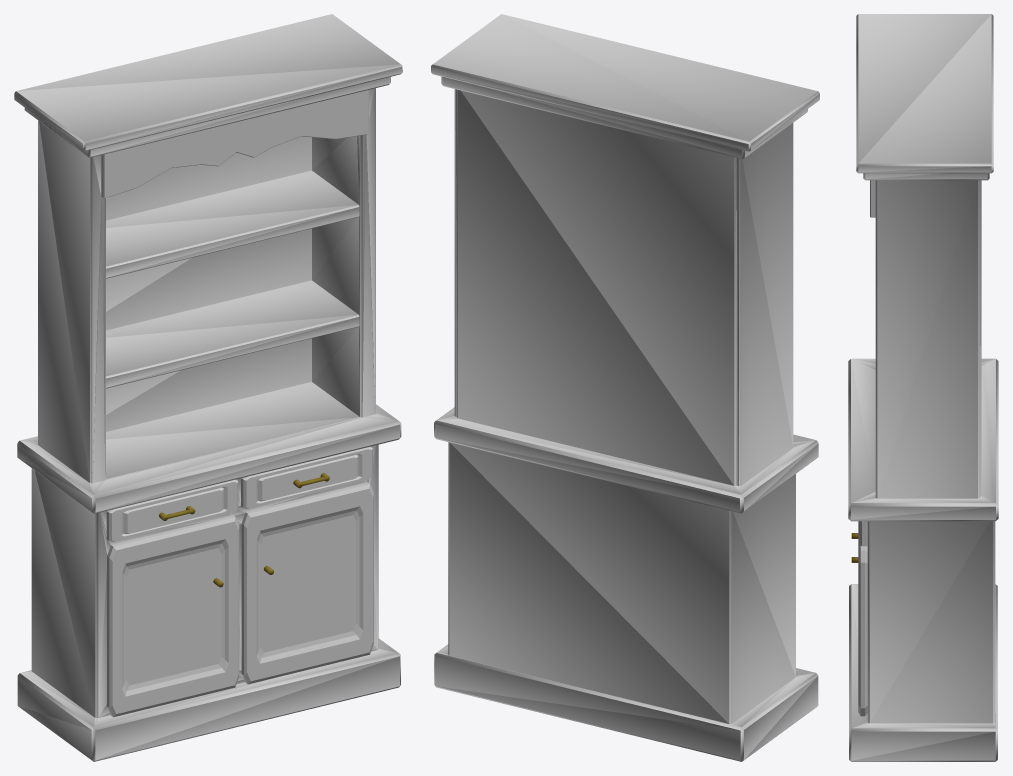
The model's file is K04_Pantry_Hutch.fbx.
The picture shows the model from 3 angles, left to right: view 1: azimuth 30°, elevation 25°; view 2: azimuth 150°, elevation 25°; view 3: azimuth 270°, elevation 25°; orthographic projection. The views are drawn at different scales.
Parts seen in each view (by area): view 1: K04_Pantry_Hutch; view 2: K04_Pantry_Hutch; view 3: K04_Pantry_Hutch.
Boxes of the visible parts, bbox=[...] form: K04_Pantry_Hutch: bbox=[14, 14, 402, 761]; K04_Pantry_Hutch: bbox=[431, 14, 819, 761]; K04_Pantry_Hutch: bbox=[848, 14, 998, 761].
Size of the model in its own units: 1.18 by 2.18 by 0.495.
